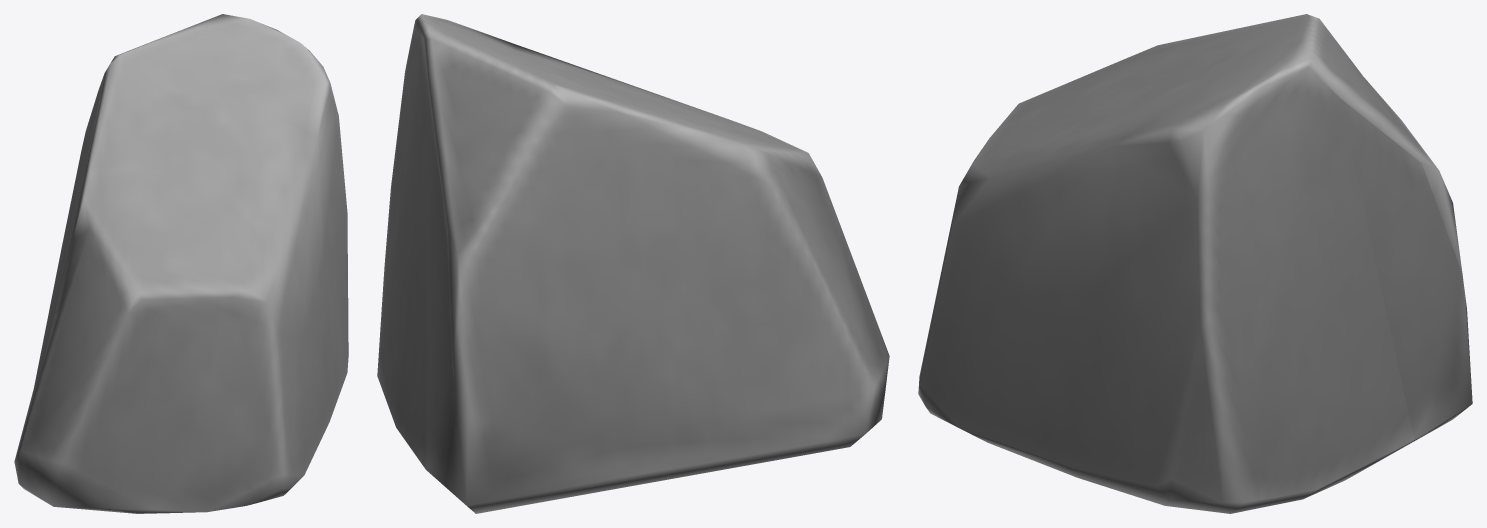
The model's file is SM_Rocks_02.obj.
The picture shows the model from 3 angles, left to right: view 1: azimuth 30°, elevation 25°; view 2: azimuth 150°, elevation 25°; view 3: azimuth 270°, elevation 25°; orthographic projection. The views are drawn at different scales.
Parts seen in each view (by area): view 1: SM_Rocks_02; view 2: SM_Rocks_02; view 3: SM_Rocks_02.
Part boxes in pixels (<box>): SM_Rocks_02: <box>14,14,348,513</box>; SM_Rocks_02: <box>377,14,889,513</box>; SM_Rocks_02: <box>918,14,1472,513</box>.
Bounding box in the file's own units: 0.6174 × 0.5586 × 0.6602.
Materials: 1 (1 with a texture image).
